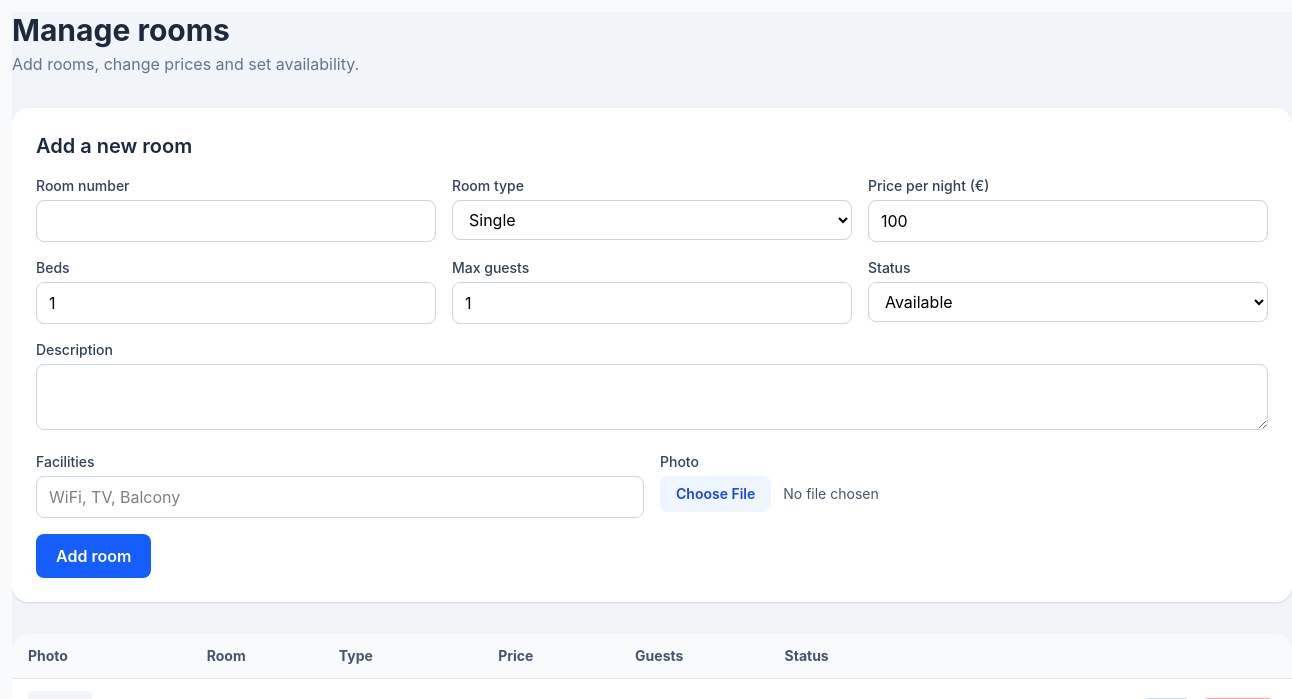
Test: AdminRoomsPage › sends a new room to the backend
Type "105" into the 1st field at (236, 221), box [36, 200, 436, 242]
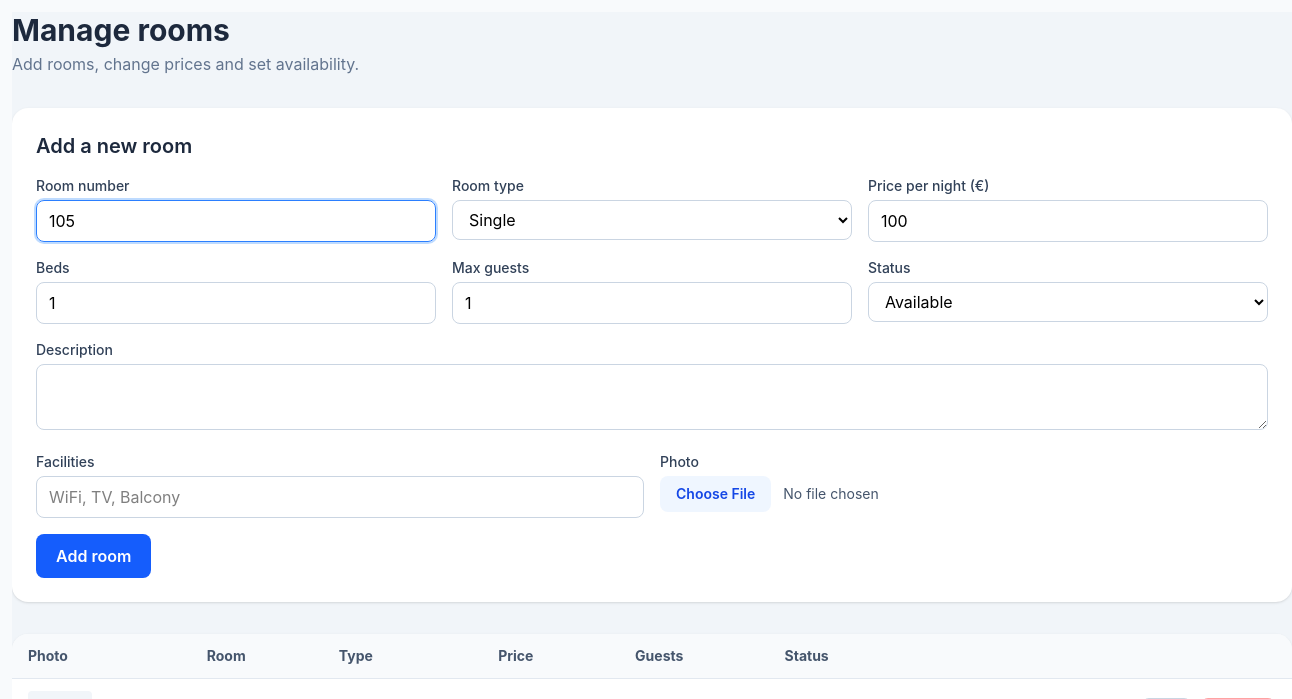
Type "Test room" into the text box at (652, 397), box [36, 364, 1268, 430]
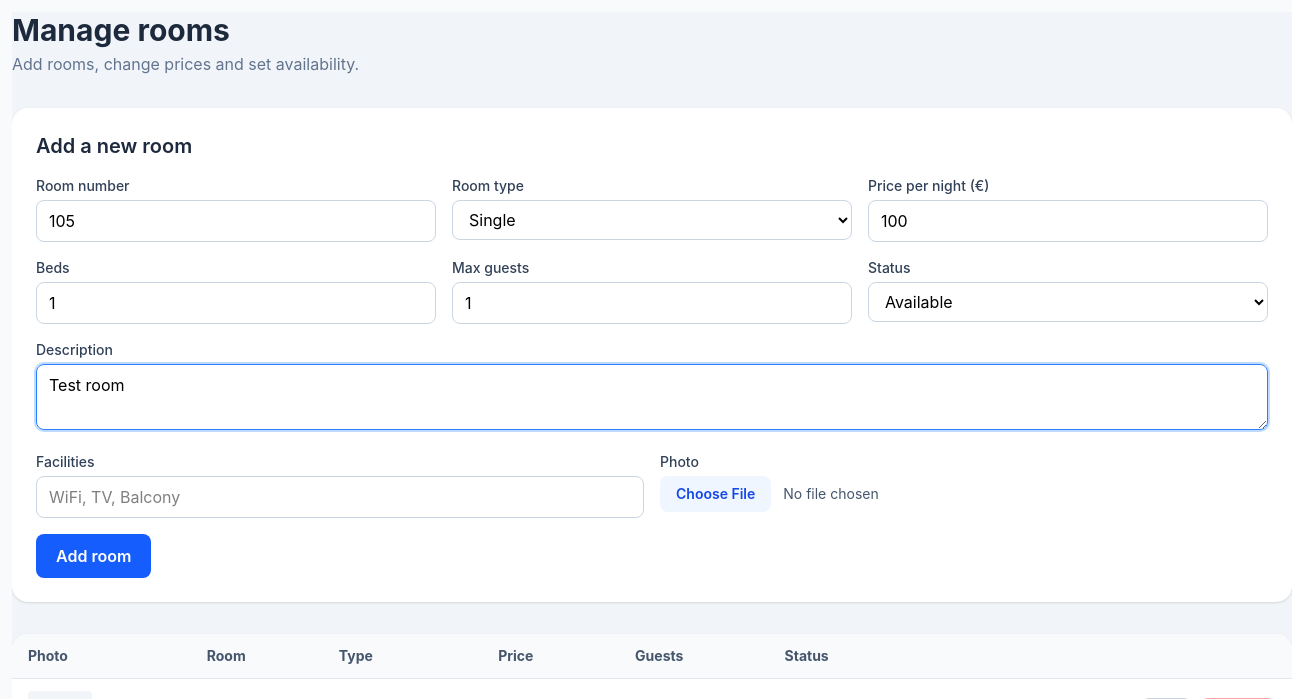
Type "WiFi, TV" into the field with placeholder "WiFi, TV, Balcony" at (340, 497), box [36, 476, 644, 518]
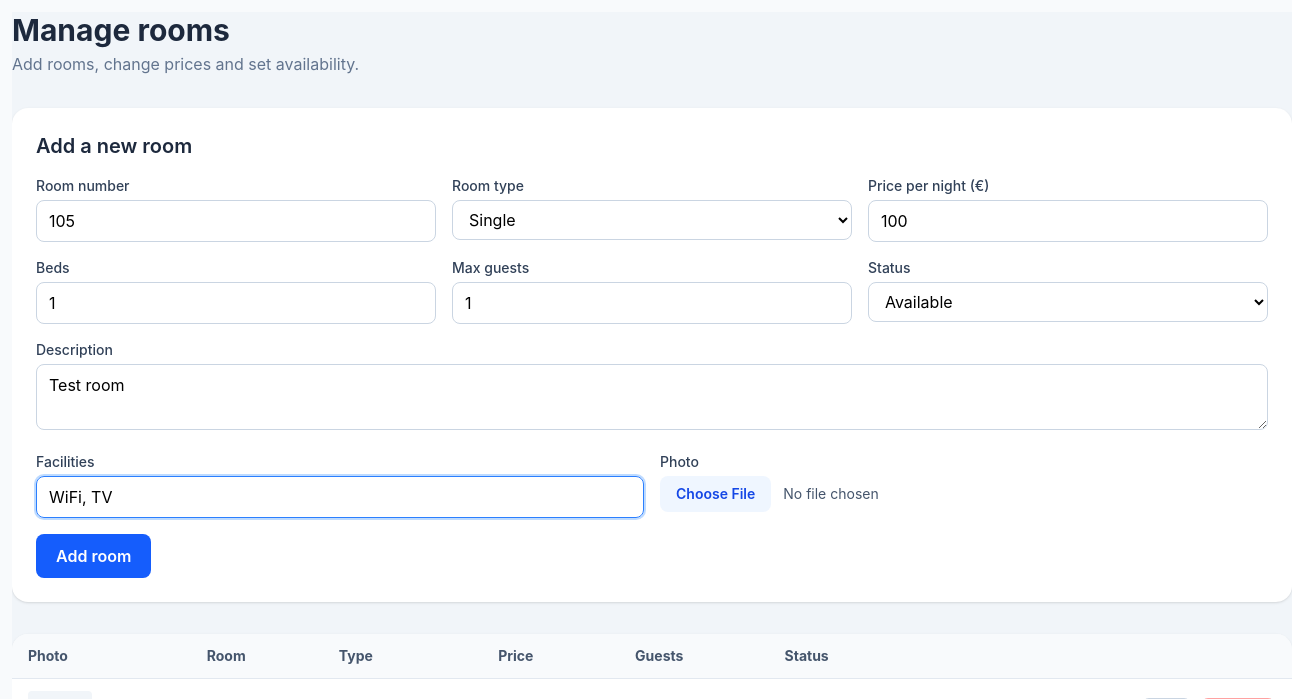
Click the button "Add room" at (94, 556), box [36, 534, 151, 578]
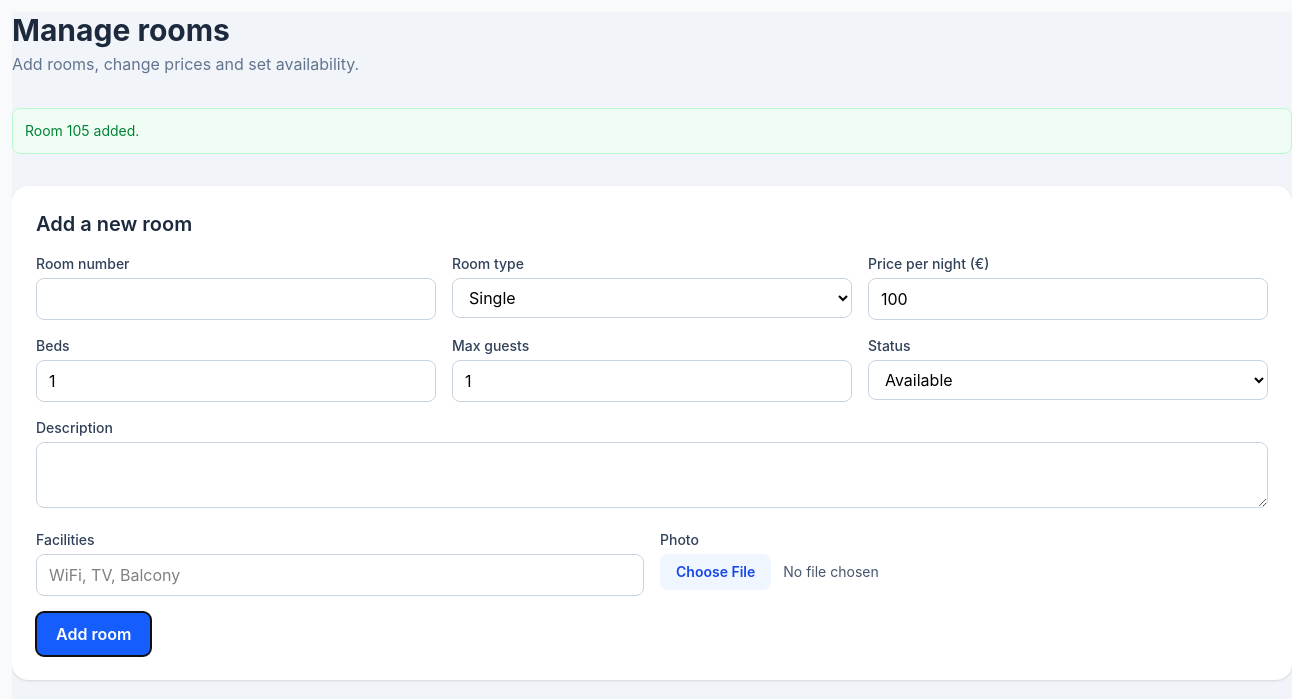
Check: the text "Room 105 added." is shown, box [12, 108, 1291, 154]
